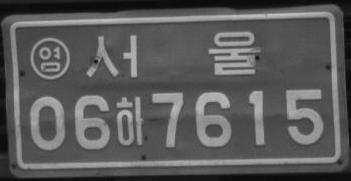0: (29, 95, 65, 152)
1: (241, 90, 274, 146)
5: (284, 88, 324, 146)
6: (194, 90, 233, 148), (73, 93, 110, 150)
7: (150, 91, 185, 147)
서울_D: (85, 30, 262, 78)
영: (30, 36, 70, 80)
하: (115, 95, 144, 146)
